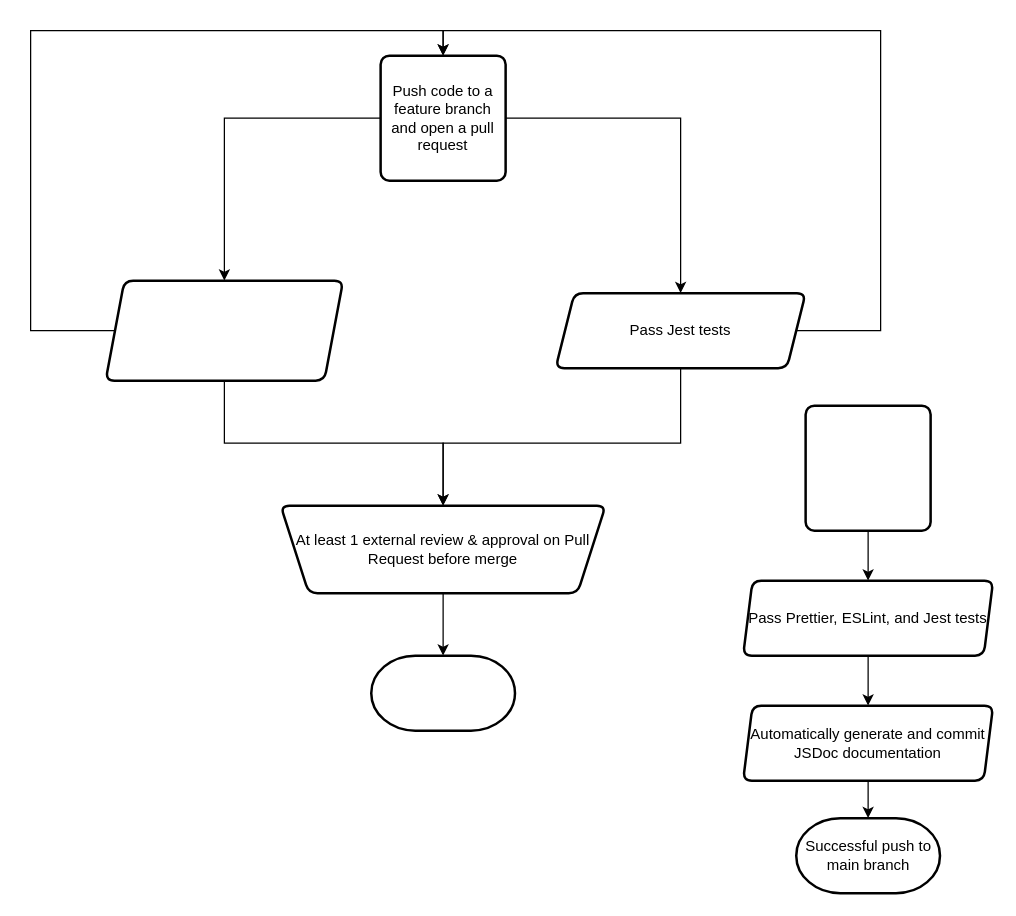
The diagram is 1016 pixels wide and 916 high, and some of its shapes have lost their labels. The box of each missing label's shape, as (x1, y1, x2, y2) in pixels:
Pass ESLint test on js files and Prettier format check on all files: (104, 279, 344, 381)
Push code to main (includes merges): (804, 404, 931, 531)
Successful Merge: (369, 654, 516, 731)
